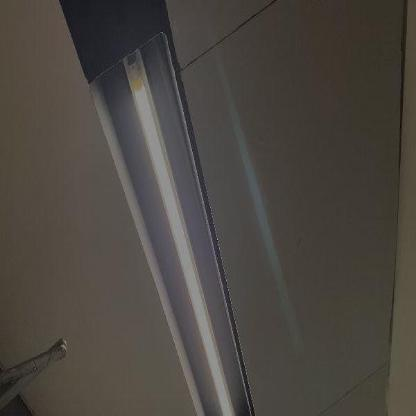light_on: (116, 42, 236, 415)
